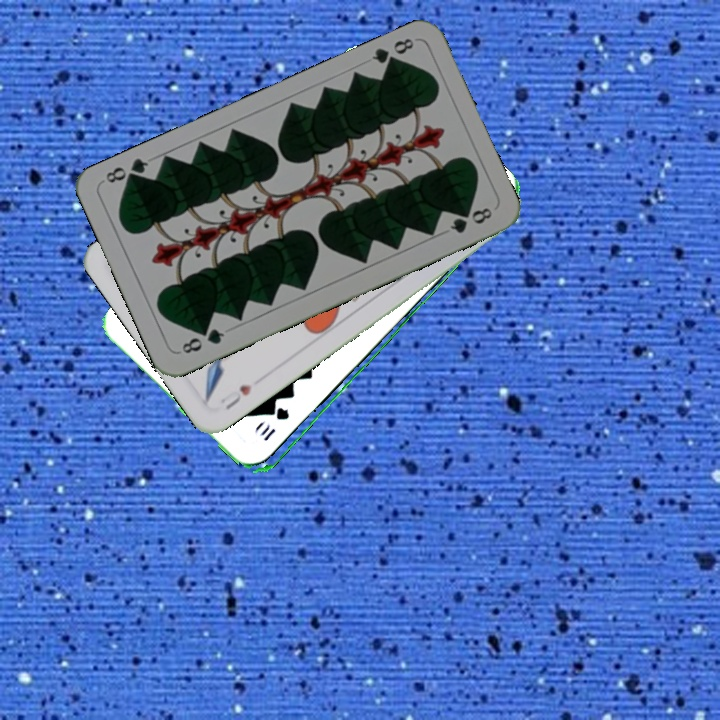G10: (259, 405, 292, 444)
G8: (368, 34, 417, 71), (175, 324, 227, 356)
HU: (216, 380, 255, 412)
